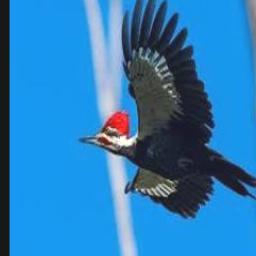Woodpecker: (80, 0, 256, 218)
